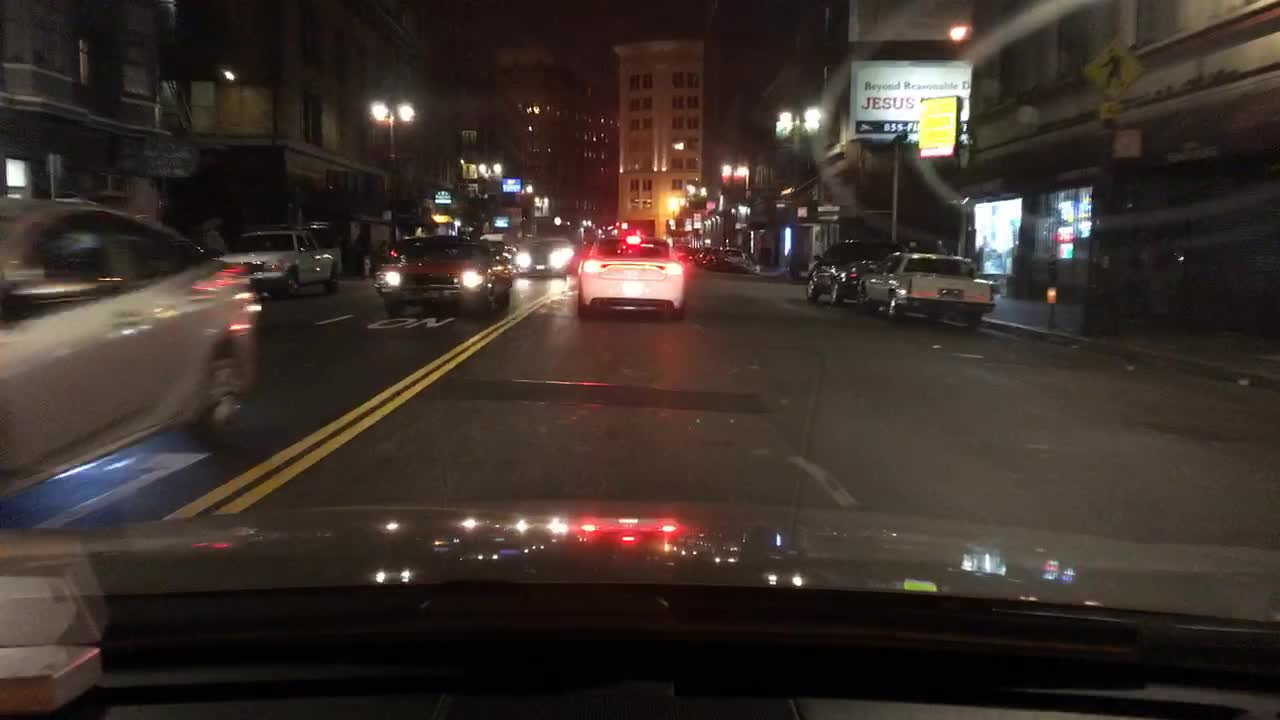car: (1, 192, 263, 521), (854, 249, 994, 329), (374, 231, 510, 312), (573, 234, 691, 315), (219, 228, 342, 296), (804, 237, 905, 306), (511, 233, 576, 279), (489, 237, 516, 271), (719, 247, 745, 271), (701, 248, 720, 267), (691, 246, 708, 263)
traffic sign: (1082, 38, 1148, 98), (1112, 129, 1141, 156), (491, 215, 510, 229), (434, 192, 451, 207)
